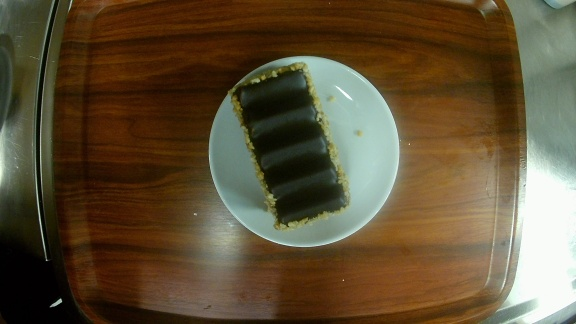muzlupasta: (208, 55, 401, 247)
